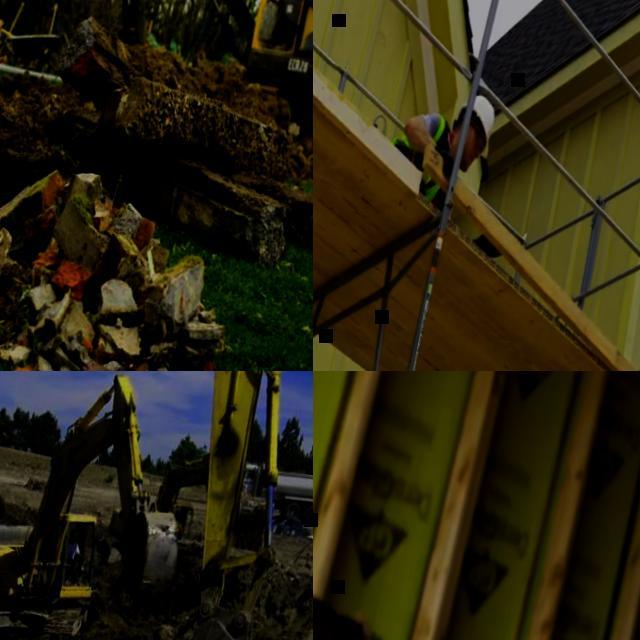helmet: (451, 90, 500, 158), (71, 529, 80, 537)
vest: (380, 104, 456, 202)
